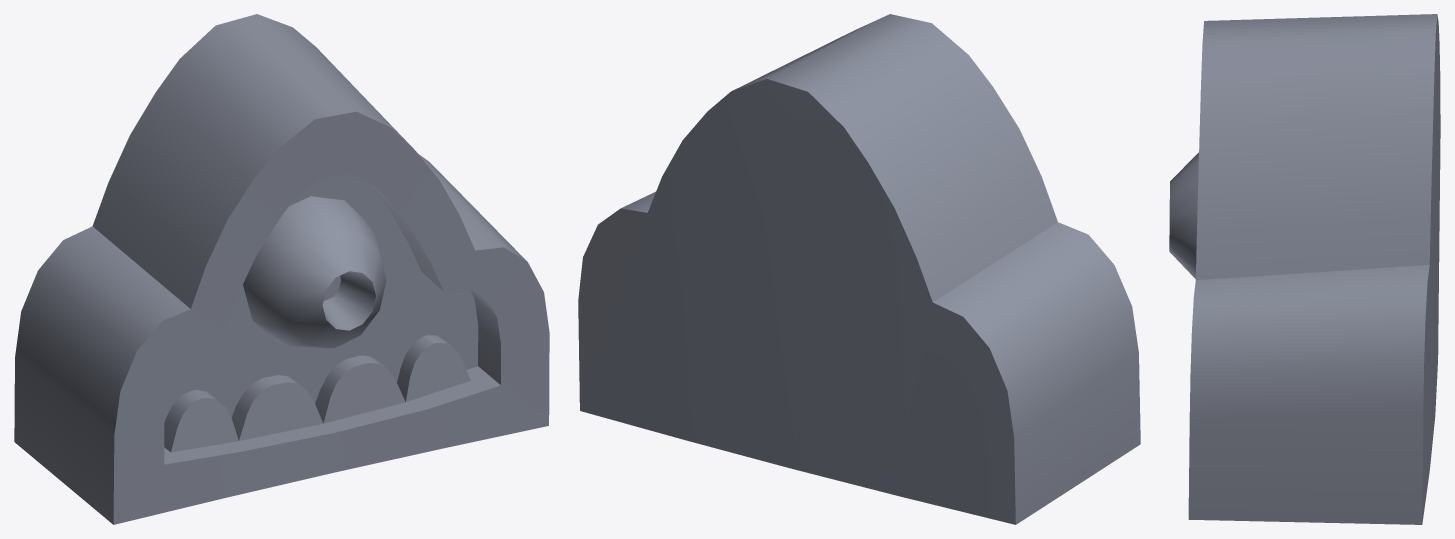
The model's file is wall_top_type_cyclops.fbx.
3 views of the same model, side by side, from view 1: azimuth 30°, elevation 25°; view 2: azimuth 150°, elevation 25°; view 3: azimuth 270°, elevation 25° (orthographic). The views are drawn at different scales.
Visible parts, largest first — view 1: wall_type.003; view 2: wall_type.003; view 3: wall_type.003.
Boxes of the visible parts, bbox=[...] form: wall_type.003: bbox=[14, 14, 549, 524]; wall_type.003: bbox=[578, 14, 1140, 524]; wall_type.003: bbox=[1169, 14, 1440, 524].
Bounding box in the file's own units: 34.78 × 27.99 × 17.41.
